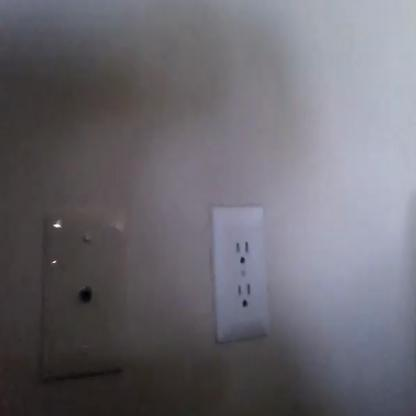OUTLET: (212, 207, 272, 340)
